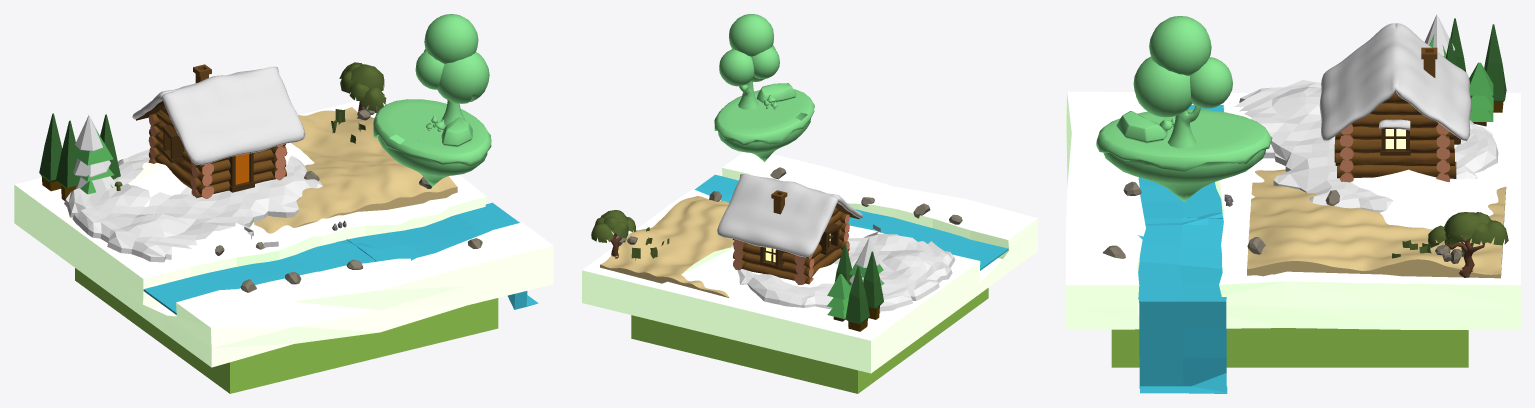
File: envo.gltf
The picture shows the model from 3 angles, left to right: view 1: azimuth 30°, elevation 25°; view 2: azimuth 150°, elevation 25°; view 3: azimuth 270°, elevation 25°; orthographic projection. The views are drawn at different scales.
Visible parts, largest first — view 1: Cube.001, dirt001_01_-_Default_0, Plane.046, roofSnow, Plane, island, island.001, lesssimpletreeleaves, Cylinder003_01_-_Default_0, Cube.008, Cube.006, Cube.003 (+7 smaller); view 2: Cube.001, island, dirt001_01_-_Default_0, roofSnow, Plane.046, Plane, Cube.008, lesssimpletreeleaves, Cube.006, Cube.004, windowFrame.001, island.001 (+4 smaller); view 3: Cube.001, Plane, island, Plane.046, roofSnow, dirt001_01_-_Default_0, island.001, lesssimpletreeleaves, Cube.004, log007, Cube.008, log012 (+9 smaller).
Part boxes in pixels (x1,y1,x2,y2): Cube.001: [14, 101, 553, 393]; dirt001_01_-_Default_0: [64, 149, 322, 262]; Plane.046: [254, 107, 457, 233]; roofSnow: [132, 66, 305, 165]; Plane: [143, 202, 538, 314]; island: [373, 14, 491, 186]; island.001: [418, 16, 489, 163]; lesssimpletreeleaves: [339, 62, 386, 111]; Cylinder003_01_-_Default_0: [73, 115, 115, 192]; Cube.008: [39, 113, 62, 191]; Cube.006: [56, 120, 80, 200]; Cube.003: [75, 129, 114, 194]; Cube.001: [582, 152, 1037, 393]; island: [714, 15, 814, 162]; dirt001_01_-_Default_0: [730, 224, 955, 311]; roofSnow: [717, 174, 863, 257]; Plane.046: [600, 196, 734, 297]; Plane: [695, 174, 1008, 270]; Cube.008: [845, 266, 869, 331]; lesssimpletreeleaves: [591, 210, 636, 242]; Cube.006: [863, 251, 883, 319]; Cube.004: [827, 274, 850, 321]; windowFrame.001: [819, 223, 840, 254]; island.001: [731, 14, 806, 98]; Cube.001: [1066, 91, 1520, 367]; Plane: [1138, 105, 1227, 393]; island: [1096, 16, 1272, 201]; Plane.046: [1247, 169, 1506, 278]; roofSnow: [1319, 23, 1471, 141]; dirt001_01_-_Default_0: [1234, 80, 1498, 212]; island.001: [1100, 16, 1226, 155]; lesssimpletreeleaves: [1428, 212, 1508, 248]; Cube.004: [1469, 62, 1493, 126]; log007: [1335, 149, 1454, 166]; Cube.008: [1484, 24, 1506, 112]; log012: [1337, 162, 1456, 178].
Bounding box in the file's own units: 5.87 × 4.57 × 5.56.
